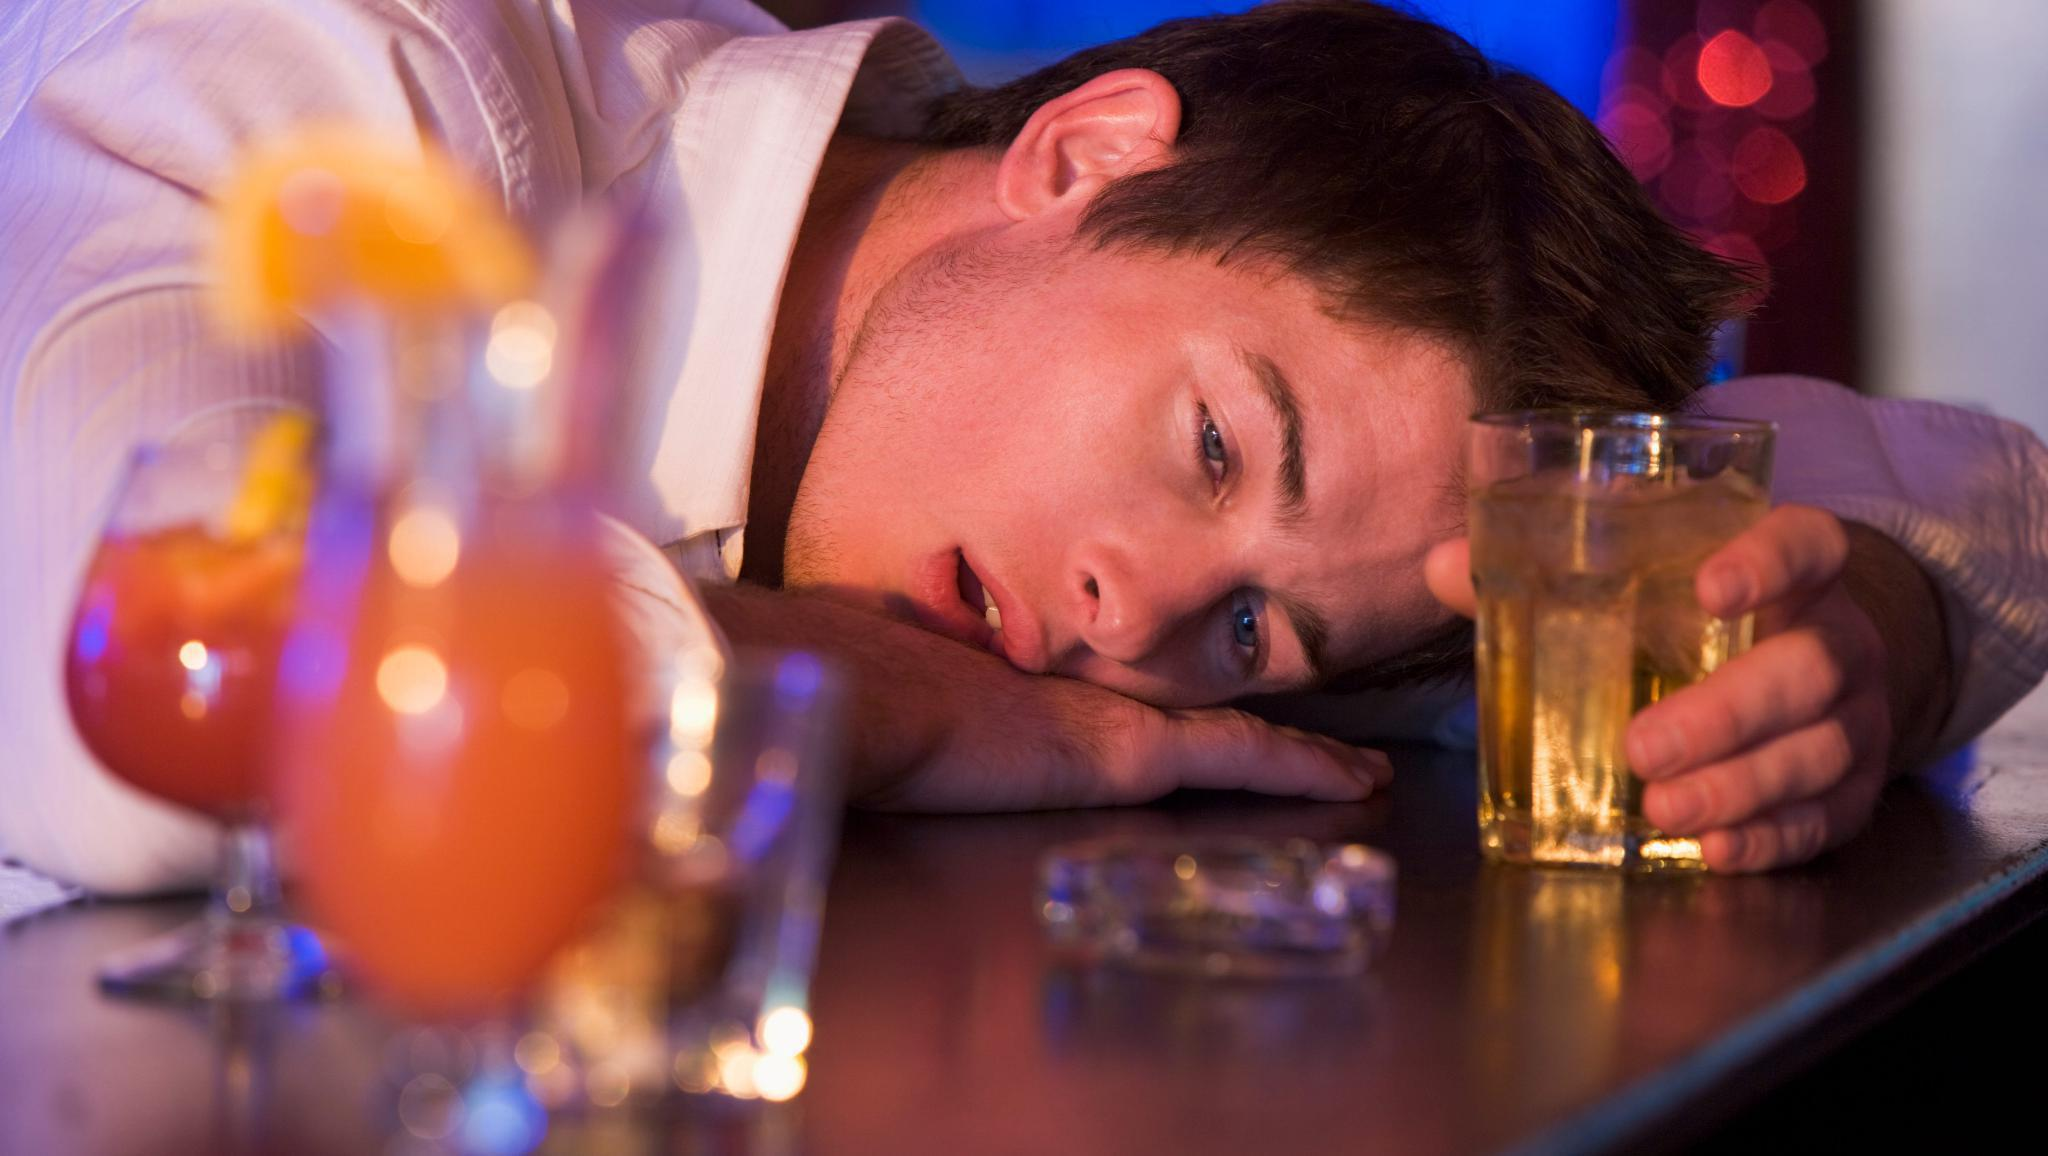Drunk: (821, 257, 1485, 696)
